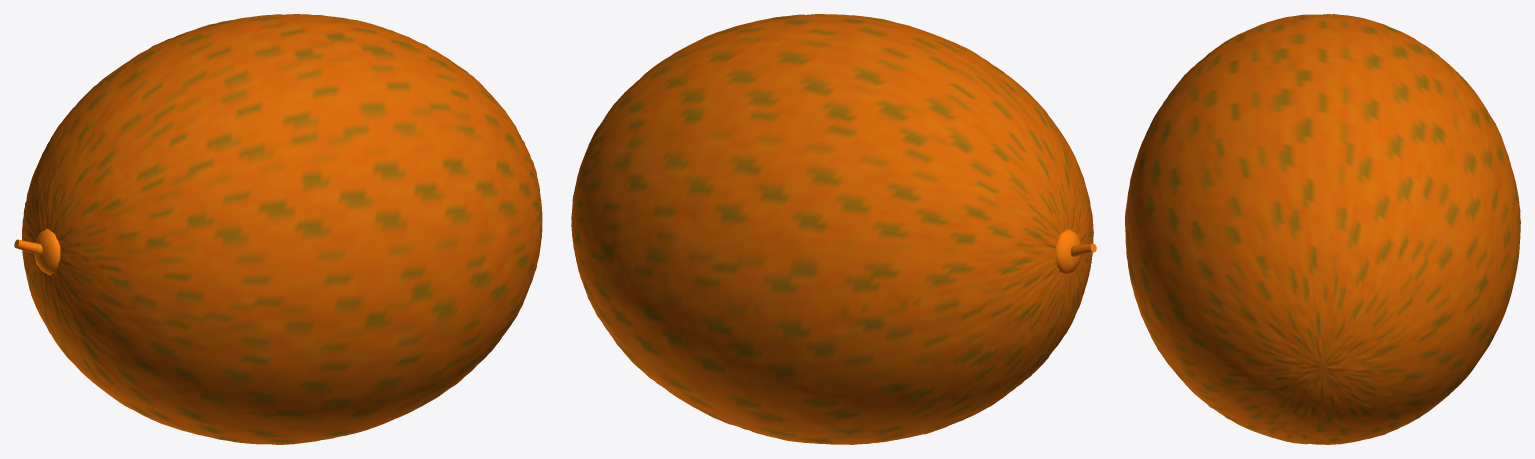
Rendered from kumquat.glb.
3 renders of one model, left to right at view 1: azimuth 30°, elevation 25°; view 2: azimuth 150°, elevation 25°; view 3: azimuth 270°, elevation 25°, orthographic. The views are drawn at different scales.
Visible parts, largest first — view 1: kumquat; view 2: kumquat; view 3: kumquat.
Part boxes in pixels (box(x1,y1,x2,y2)): kumquat: box(14, 14, 542, 444); kumquat: box(571, 14, 1096, 444); kumquat: box(1125, 14, 1520, 444).
Bounding box in the file's own units: 2 × 1.49 × 1.48.
